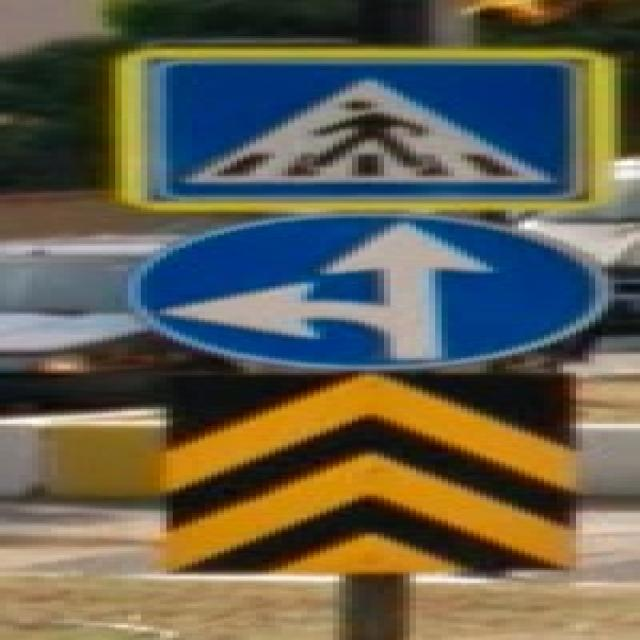Straight or Left: (123, 213, 609, 370)
